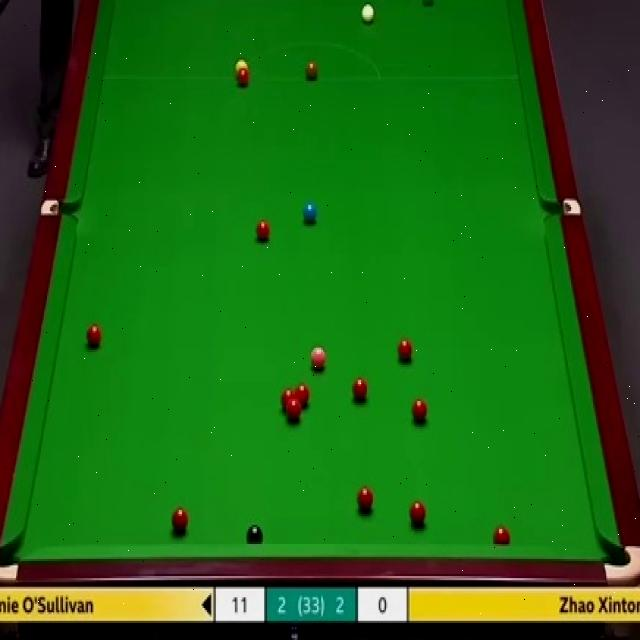black-ball: (246, 524, 266, 546)
blue-ball: (303, 200, 318, 227)
brown-ball: (305, 57, 318, 79)
green-ball: (419, 0, 434, 6)
pink-ball: (310, 347, 327, 373)
red-ball: (408, 501, 428, 530), (348, 374, 368, 402), (170, 506, 188, 534), (356, 487, 374, 514), (397, 336, 414, 364), (411, 396, 428, 422), (280, 388, 296, 415), (85, 321, 101, 347), (256, 217, 270, 245), (295, 383, 310, 409), (492, 525, 511, 543), (286, 402, 302, 422), (237, 68, 249, 87)
white-ball: (361, 4, 377, 24)
yellow-ball: (234, 58, 248, 78)
